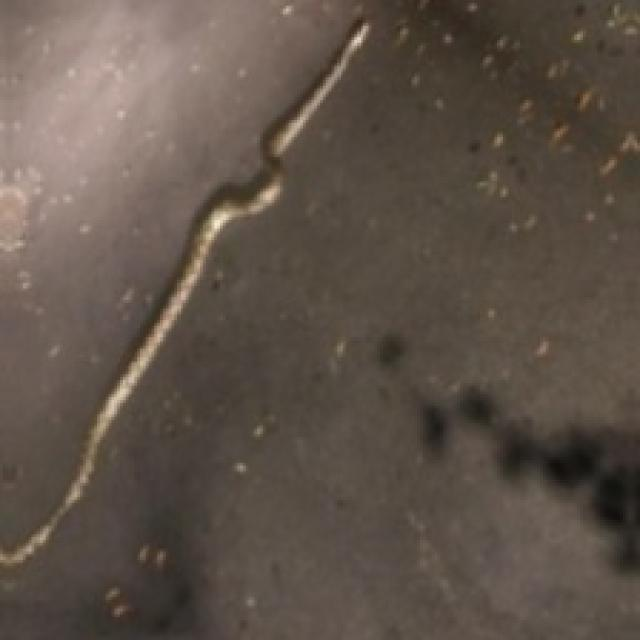reticulated python: (0, 20, 366, 566)
